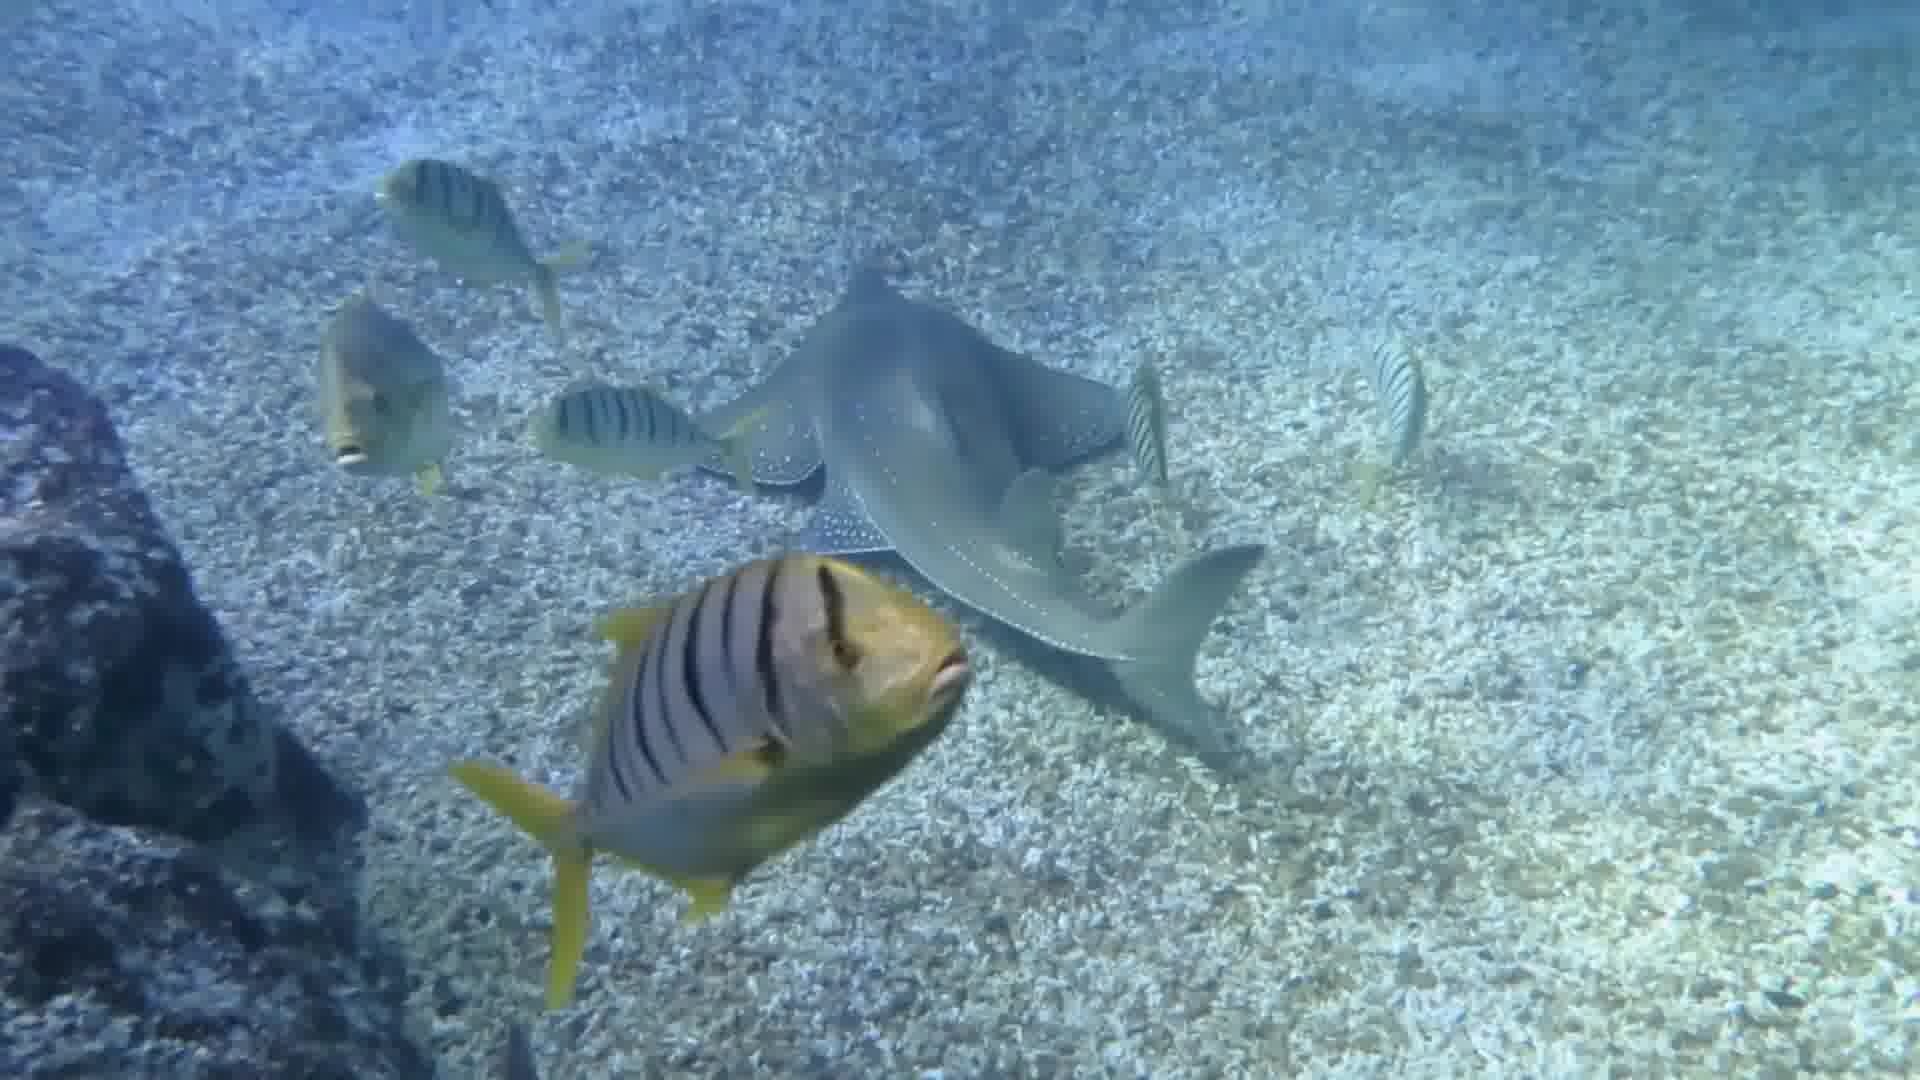Rhychobatus djiddensis: (746, 189, 1364, 711)
